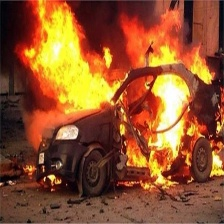fire: (18, 2, 224, 186)
